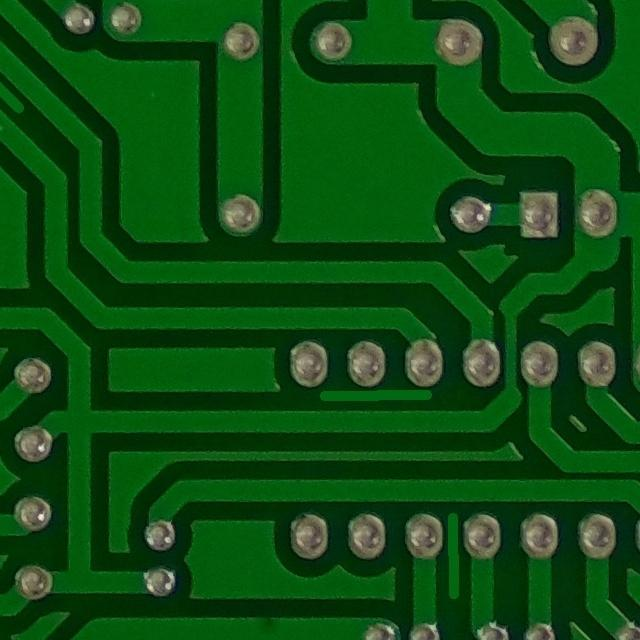spurious_copper: (308, 374, 441, 416), (433, 502, 483, 604)
